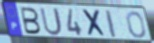4: (66, 8, 84, 37)
B: (20, 6, 43, 36)
I: (105, 9, 118, 39)
O: (126, 11, 148, 40)
U: (39, 7, 64, 37)
X: (80, 9, 108, 38)
